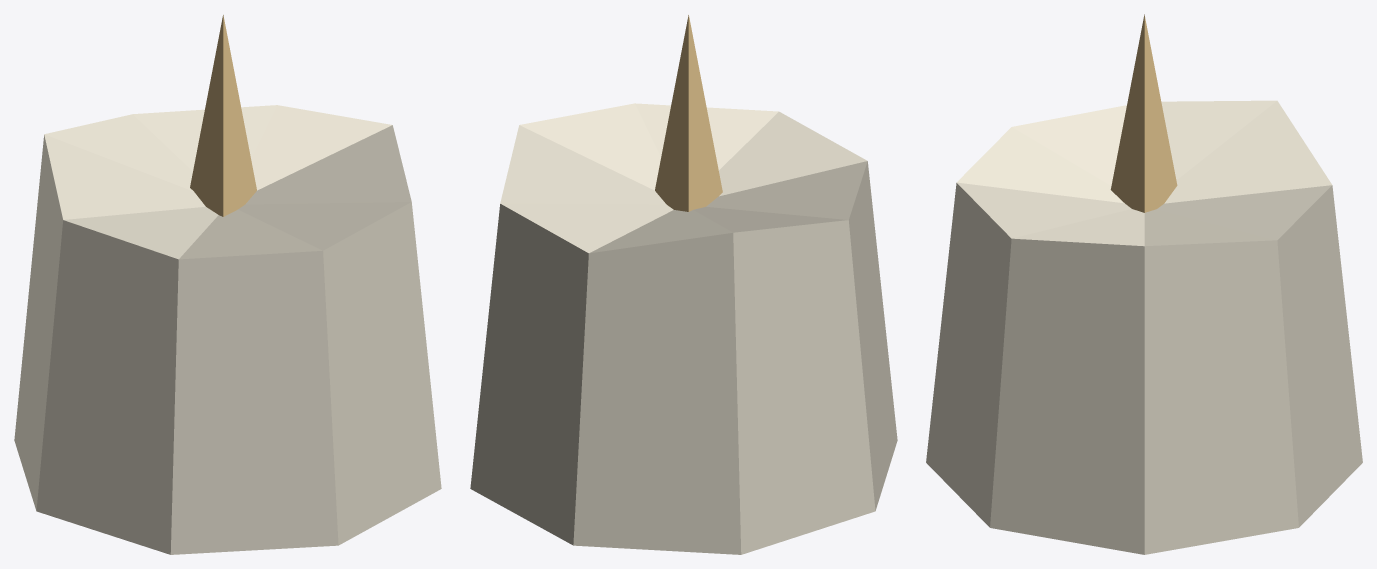
File: Candle_3.fbx
3 renders of one model, left to right at view 1: azimuth 30°, elevation 25°; view 2: azimuth 150°, elevation 25°; view 3: azimuth 270°, elevation 25°, orthographic.
Parts seen in each view (by area): view 1: polySurface1260; view 2: polySurface1260; view 3: polySurface1260.
Boxes of the visible parts, x1=… form: polySurface1260: x1=14, y1=15, x2=441, y2=554; polySurface1260: x1=470, y1=15, x2=897, y2=554; polySurface1260: x1=926, y1=14, x2=1362, y2=554.
Bounding box in the file's own units: 17.47 × 19.7 × 17.47.
